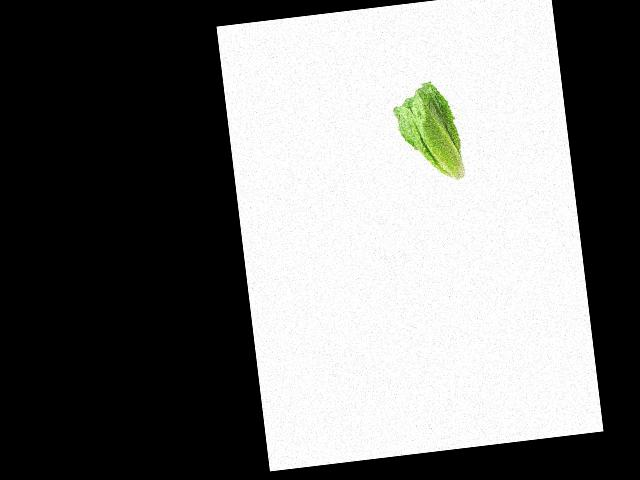lettuce: (382, 60, 485, 178)
